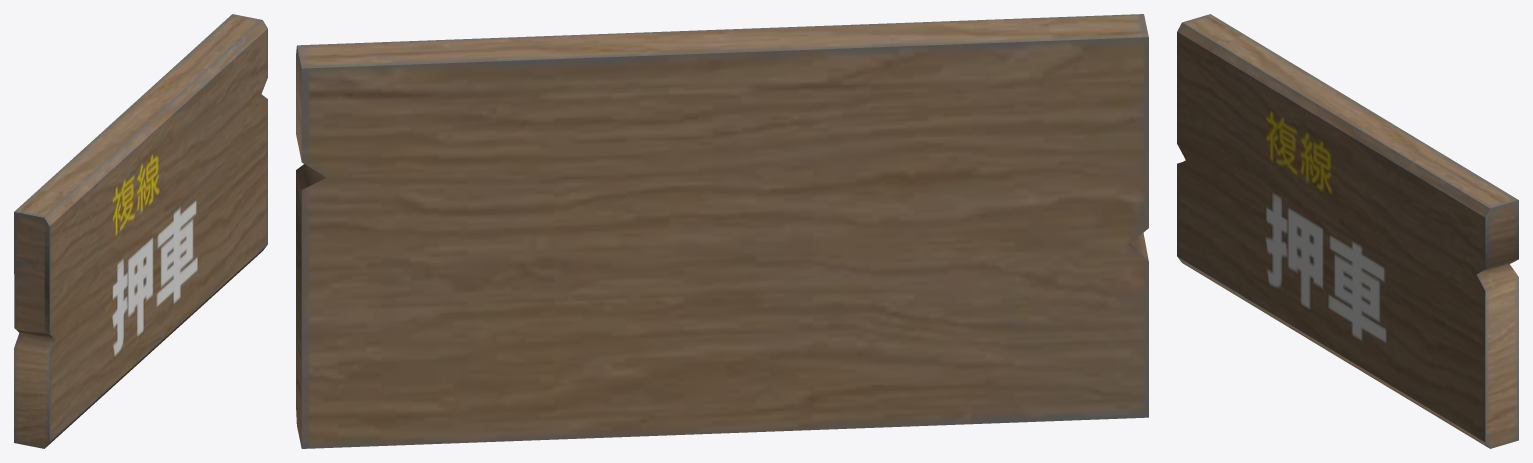
File: POP.glb
3 renders of one model, left to right at view 1: azimuth 30°, elevation 25°; view 2: azimuth 150°, elevation 25°; view 3: azimuth 270°, elevation 25°, orthographic. The views are drawn at different scales.
Parts seen in each view (by area): view 1: POP; view 2: POP; view 3: POP.
Boxes of the visible parts, box(x1,y1,x2,y2) form: POP: box(14, 14, 267, 448); POP: box(296, 14, 1148, 448); POP: box(1177, 14, 1518, 448).
Bounding box in the file's own units: 0.5962 × 0.3411 × 0.4393.
Materials: 1 (1 with a texture image).
